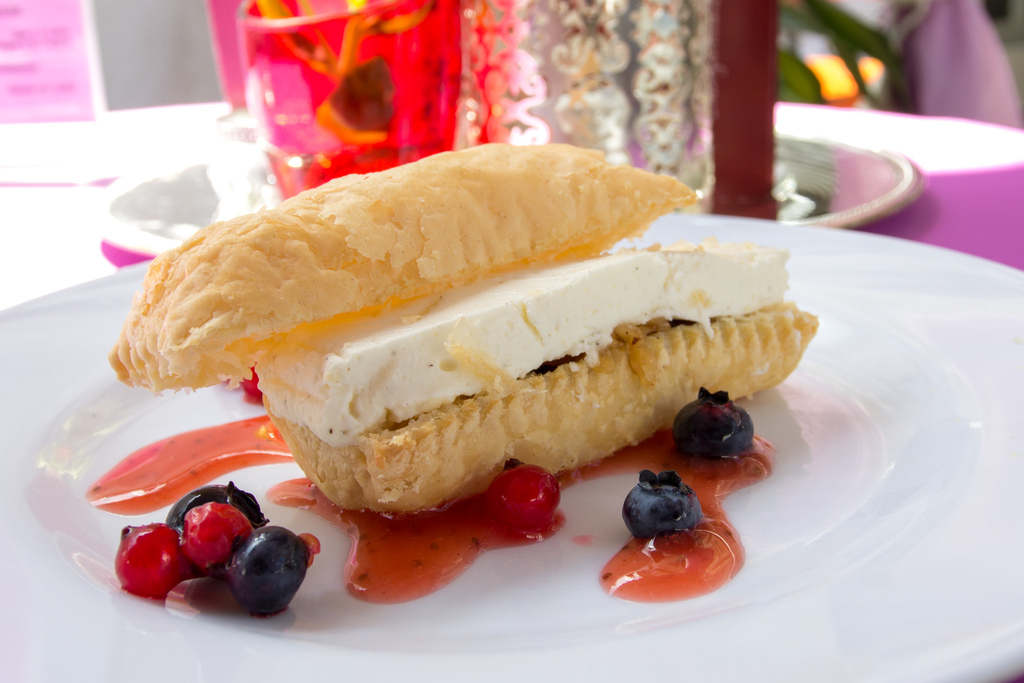sandwich: (107, 139, 819, 516)
